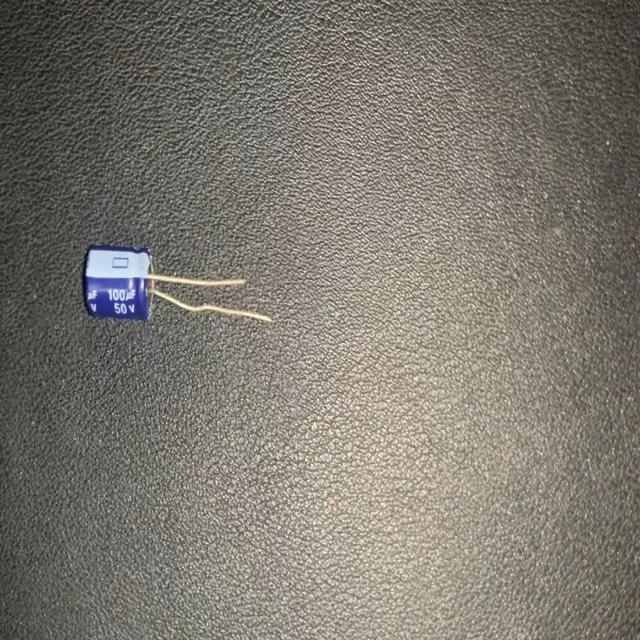capacitor: (82, 236, 276, 336)
